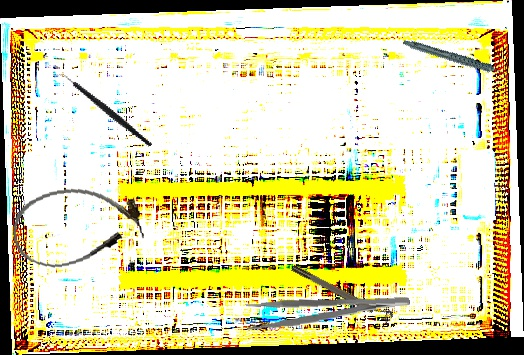Cannula: (7, 179, 147, 274)
Chopper: (53, 49, 153, 171)
Dressing Forceps: (245, 292, 411, 332)
Fixation Ring: (290, 259, 395, 326)
Handpiece: (402, 19, 510, 100)
